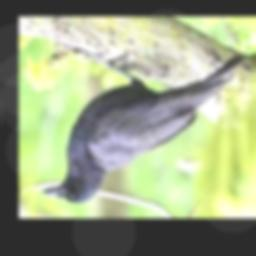Crow: (41, 53, 245, 203)
